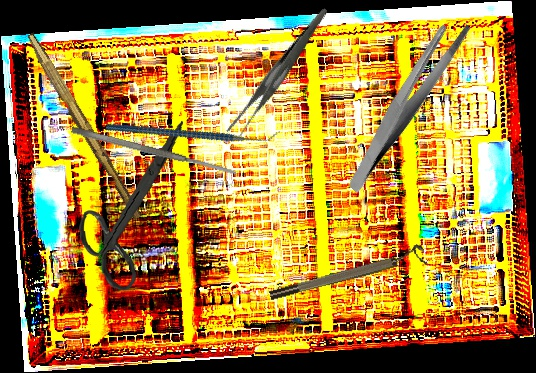Chopper: (104, 66, 281, 195)
Dressing Forceps: (310, 11, 503, 195), (201, 7, 358, 143)
Fixation Ring: (266, 242, 428, 304)
Iris Scissors: (72, 121, 195, 294)
Scalpel Handle: (20, 32, 147, 221)
Spatula Surgical: (70, 125, 238, 178)
